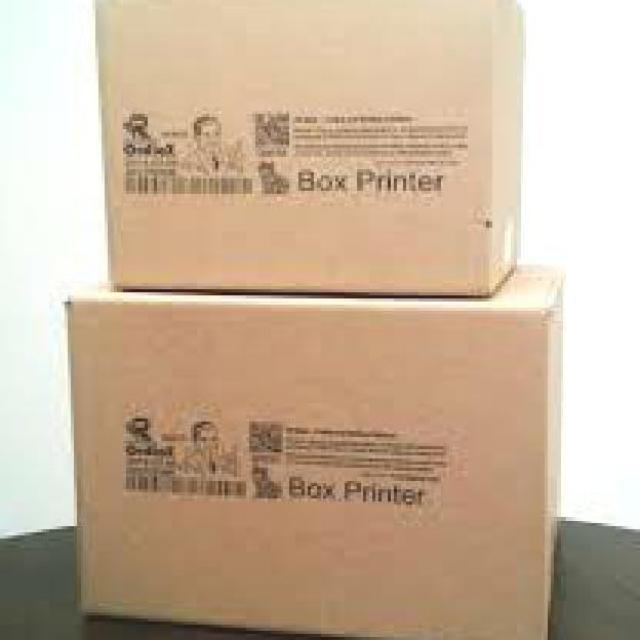box: (62, 261, 576, 637), (83, 0, 545, 302)
